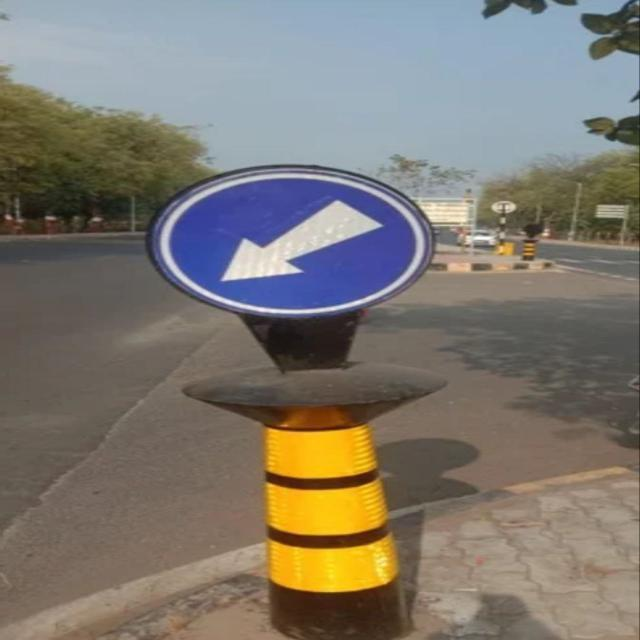compulsary keep left: (145, 160, 443, 320)
